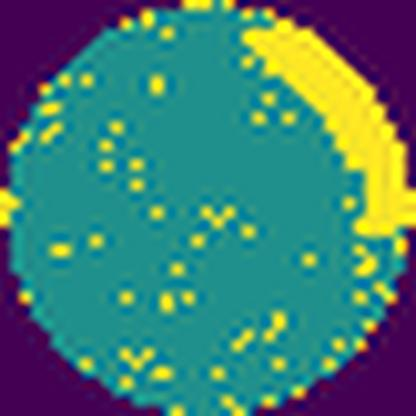Edge-Loc: (238, 7, 416, 239)
